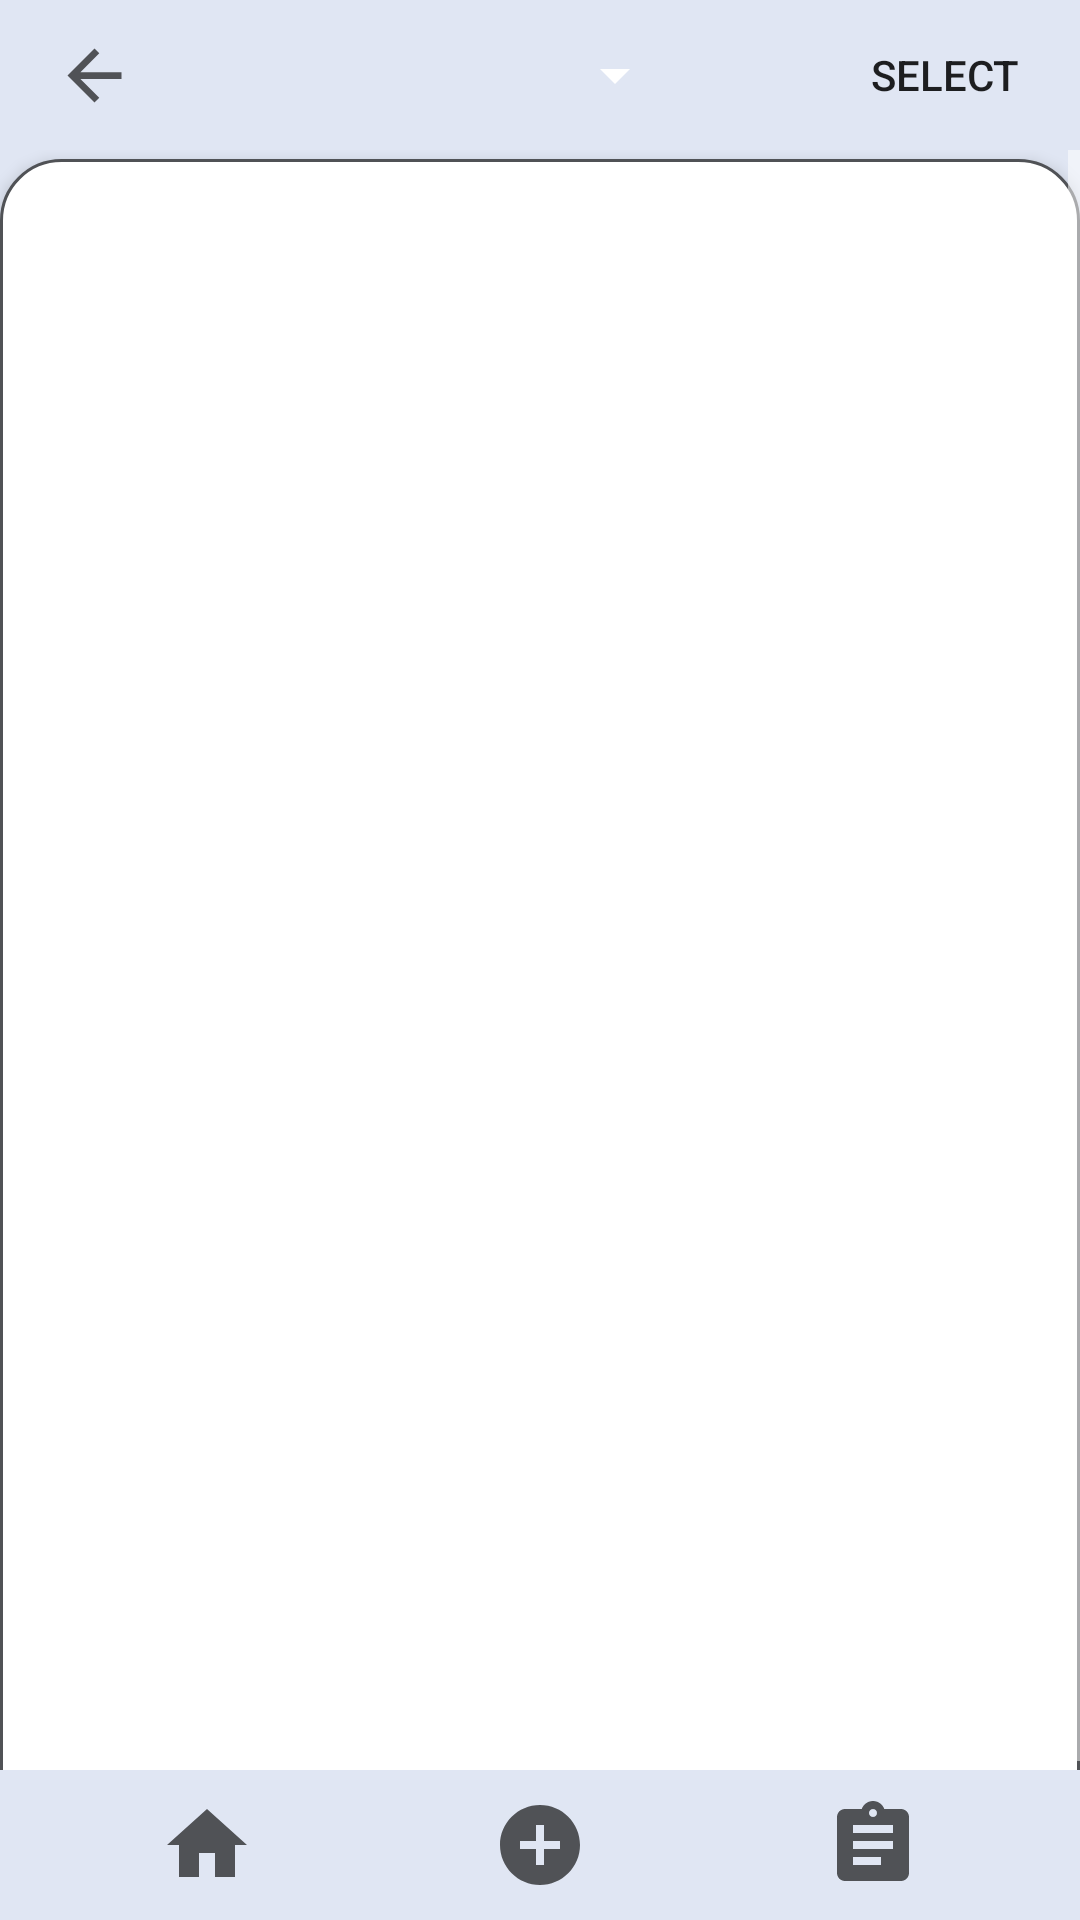

Where to tap for icons on this 1080×1920 app screen, as (x,y):
add circle bl: (540,1845)
arrow back bl: (94,75)
assignment bl: (873,1841)
home: (207,1843)
